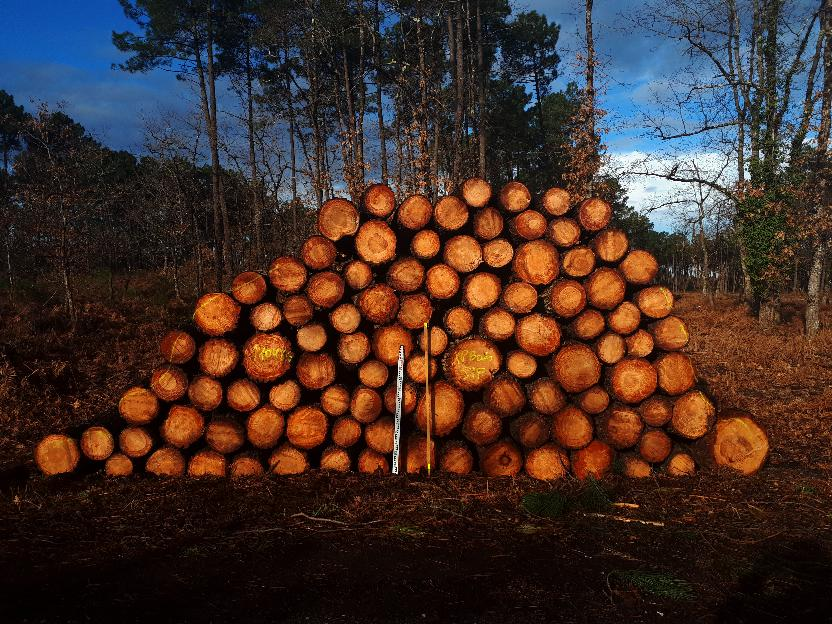etalon: (392, 344, 404, 474), (425, 324, 431, 477)
object: (701, 408, 771, 477), (442, 337, 506, 392), (414, 382, 464, 438), (602, 356, 660, 404), (552, 339, 600, 392), (190, 285, 242, 333), (239, 332, 292, 379), (314, 195, 362, 241), (649, 350, 695, 398), (672, 391, 718, 439), (352, 217, 398, 263), (286, 400, 330, 448), (550, 403, 594, 451), (35, 429, 79, 477), (514, 239, 556, 286), (565, 438, 615, 477), (161, 404, 205, 448), (394, 430, 437, 474), (394, 288, 438, 330), (519, 311, 563, 353), (116, 383, 160, 425), (207, 412, 250, 454), (372, 326, 414, 368), (199, 336, 241, 378), (596, 404, 638, 446), (486, 374, 526, 418), (381, 254, 427, 292), (247, 410, 290, 450), (296, 351, 336, 393), (356, 286, 400, 324), (395, 192, 435, 232), (149, 365, 191, 403), (480, 437, 522, 475), (590, 266, 624, 312), (526, 442, 570, 477), (442, 236, 482, 274), (266, 256, 306, 294), (229, 268, 269, 306), (160, 324, 198, 364), (265, 372, 303, 412), (379, 380, 419, 418), (465, 403, 503, 443), (462, 274, 504, 310), (621, 250, 661, 286), (423, 266, 467, 298), (144, 448, 188, 480), (188, 373, 223, 413), (300, 236, 338, 272), (606, 299, 642, 337), (224, 377, 262, 413), (497, 178, 537, 212), (434, 191, 468, 231), (592, 226, 632, 260), (306, 271, 346, 305), (578, 195, 614, 231), (528, 378, 564, 414), (80, 425, 116, 461), (437, 442, 473, 478), (348, 386, 382, 424), (638, 426, 672, 464), (184, 451, 230, 479), (266, 444, 308, 474), (546, 212, 583, 246), (342, 258, 376, 294), (550, 282, 586, 316), (639, 283, 675, 317), (417, 324, 453, 358), (354, 358, 390, 392), (364, 420, 400, 454), (364, 181, 396, 219), (576, 384, 616, 414), (562, 242, 596, 276), (330, 301, 364, 335), (502, 348, 538, 380), (511, 414, 547, 446), (116, 427, 156, 455), (658, 452, 698, 480), (505, 282, 542, 312), (481, 303, 515, 335), (318, 384, 352, 416), (639, 394, 673, 426), (291, 322, 327, 352), (340, 331, 370, 367), (654, 316, 687, 348), (282, 294, 314, 326), (622, 328, 654, 360), (332, 416, 362, 450), (517, 206, 547, 239), (406, 353, 438, 383), (596, 332, 624, 366), (229, 454, 265, 480), (461, 176, 490, 208), (251, 300, 280, 332), (542, 182, 572, 212), (442, 303, 472, 333), (473, 210, 505, 238), (318, 448, 352, 474), (572, 310, 604, 337), (482, 241, 512, 269), (412, 229, 440, 258), (359, 451, 391, 475), (106, 452, 132, 479), (624, 454, 652, 478)
pile: (33, 166, 779, 490)
